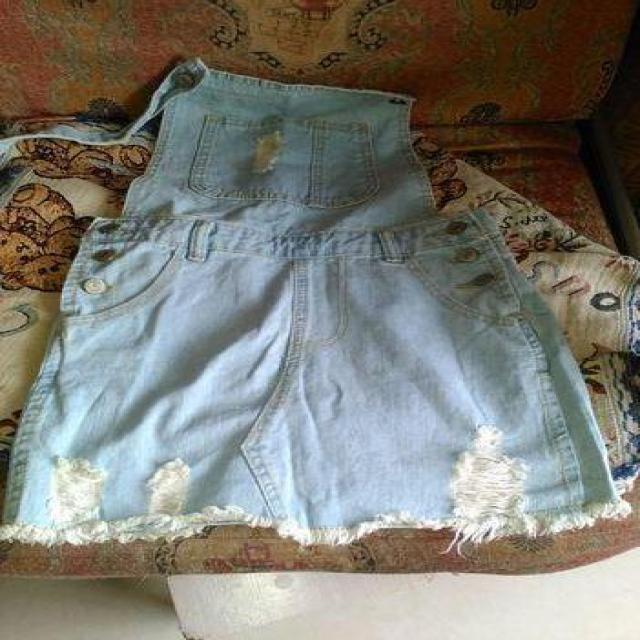sling dress: (0, 57, 636, 561)
